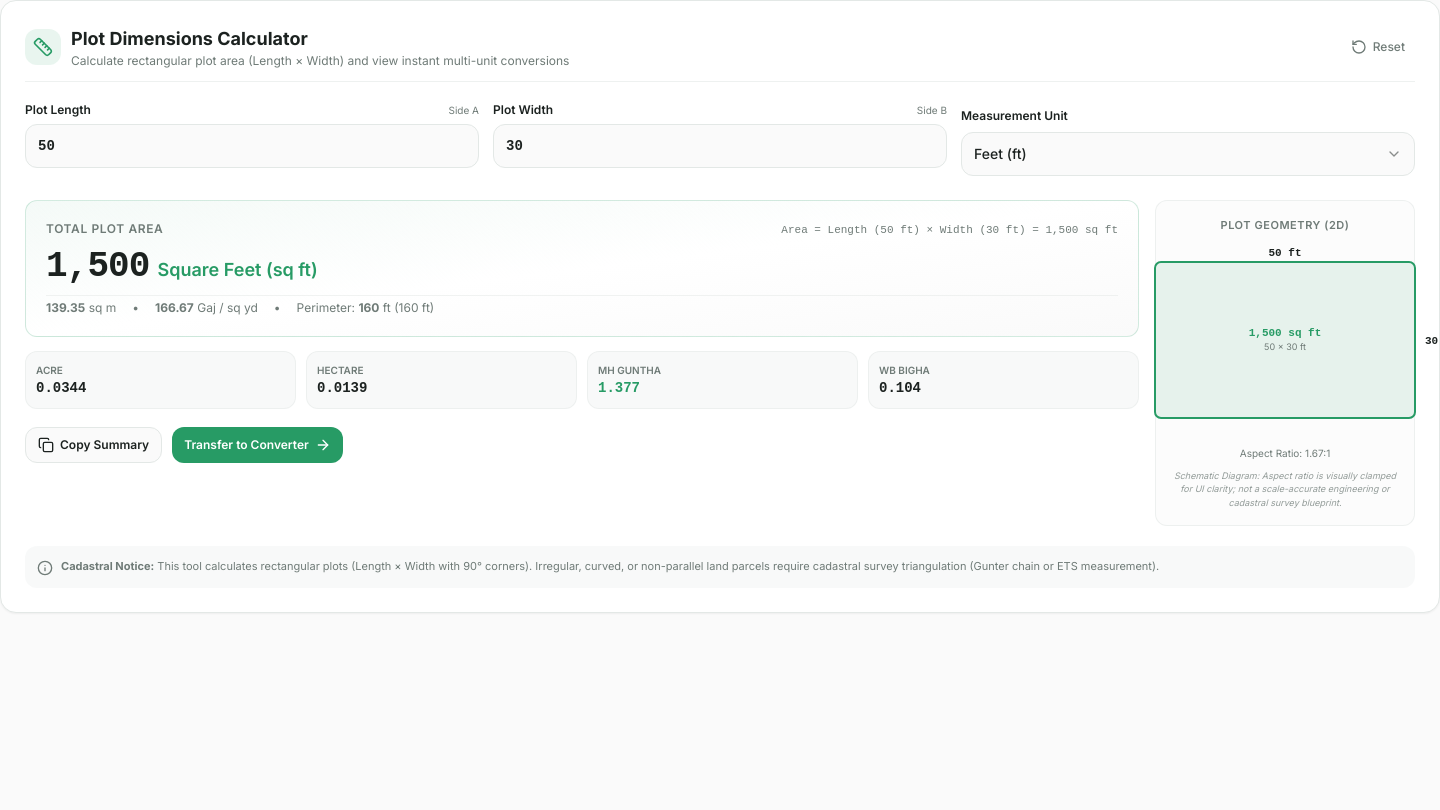
Scenario: PR #2 Pre-Merge Remediation Suite › TOOL-010: No misleading success toasts on zero or invalid inputs
Replace the text in the field labelled "Plot Length Side A" with "0" at (252, 146), box [25,124,479,168]
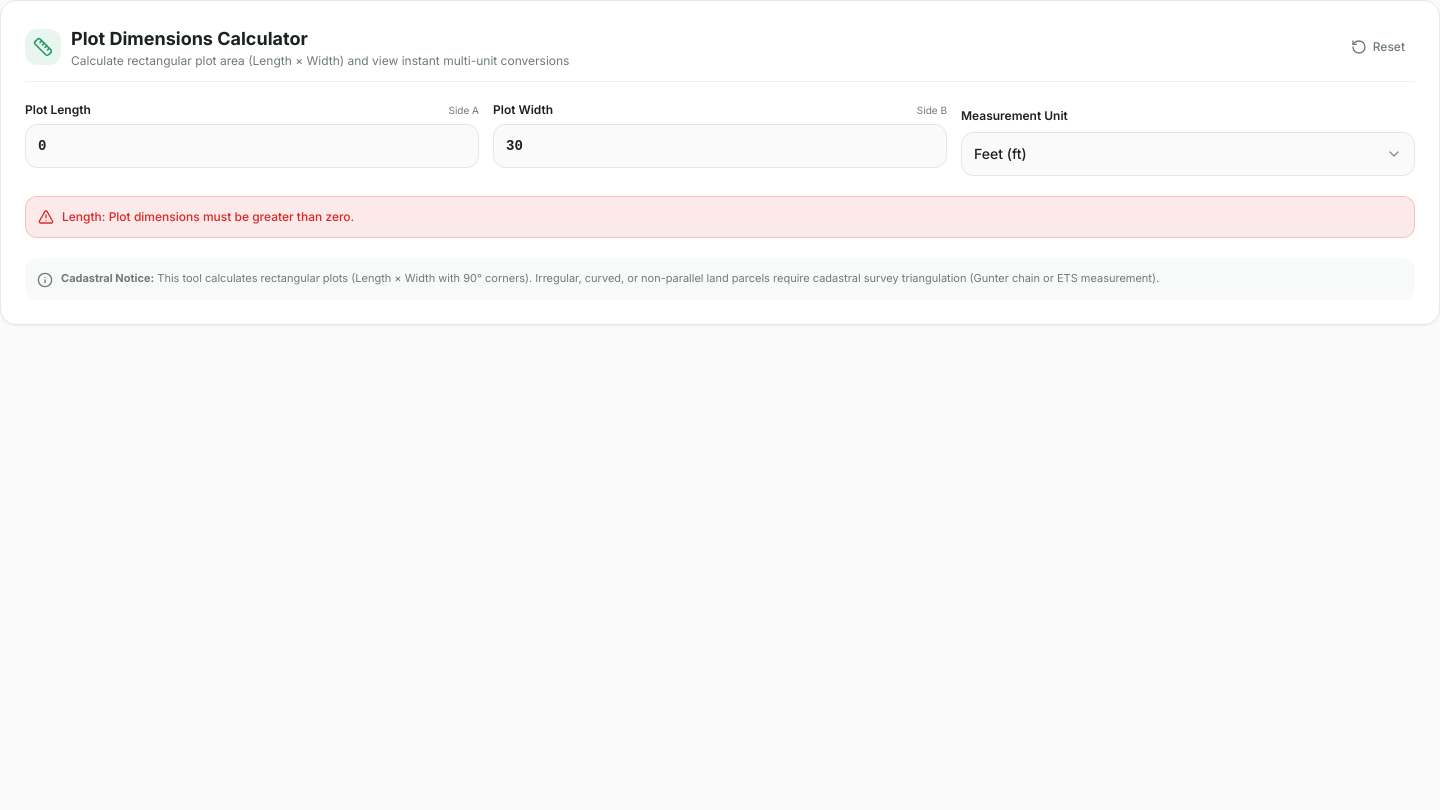
expect the button "Transfer to Converter" is gone: met
